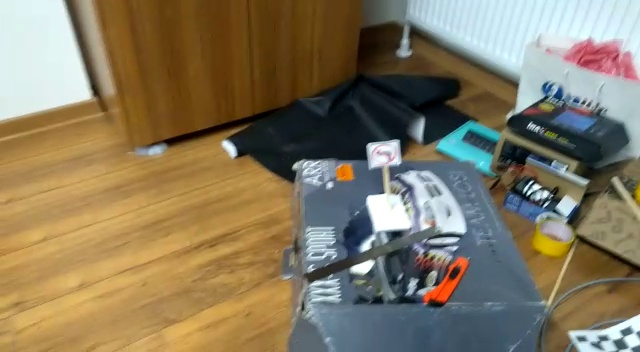sola_donulmez: (370, 142, 397, 166)
